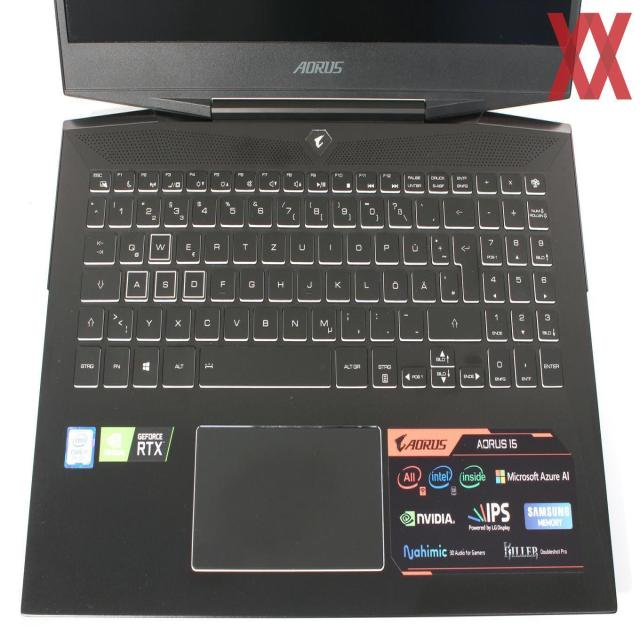0: (358, 194, 383, 226)
1: (107, 191, 132, 225)
2: (134, 191, 160, 225)
3: (162, 191, 188, 225)
4: (191, 192, 216, 224)
5: (219, 193, 244, 223)
6: (247, 192, 271, 224)
7: (275, 191, 300, 224)
8: (302, 192, 327, 226)
9: (330, 194, 355, 225)
a: (124, 267, 148, 297)
accent: (414, 195, 438, 227)
ae: (409, 265, 435, 300)
alt-left: (161, 342, 194, 386)
altgr-right: (334, 342, 367, 386)
b: (251, 301, 277, 338)
c: (193, 303, 219, 338)
caret: (85, 193, 105, 225)
comma: (339, 302, 365, 339)
d: (181, 267, 204, 297)
del: (442, 194, 474, 226)
e: (174, 227, 200, 261)
enter: (450, 227, 477, 301)
f: (208, 263, 234, 299)
g: (238, 264, 263, 299)
h: (266, 263, 292, 300)
hash: (437, 264, 457, 300)
i: (317, 228, 341, 260)
j: (295, 263, 320, 300)
k: (324, 264, 349, 300)
keyboard: (67, 162, 565, 394)
l: (353, 264, 378, 300)
less: (105, 303, 132, 338)
m: (309, 301, 336, 339)
minus: (396, 302, 422, 339)
n: (280, 302, 307, 338)
o: (345, 228, 369, 261)
oe: (381, 266, 407, 300)
p: (373, 229, 397, 261)
plus: (429, 228, 447, 262)
point: (368, 302, 394, 339)
q: (117, 227, 144, 261)
r: (202, 227, 228, 261)
s: (152, 267, 176, 297)
shift-left: (76, 302, 103, 338)
shift-lock: (80, 265, 120, 299)
shift-right: (425, 302, 480, 339)
space: (198, 339, 330, 386)
ss: (386, 194, 410, 225)
strg-left: (72, 342, 100, 386)
strg-right: (369, 342, 397, 387)
t: (232, 227, 256, 261)
tab: (82, 229, 115, 261)
u: (288, 227, 313, 261)
ue: (401, 229, 426, 262)
v: (222, 302, 248, 338)
w: (147, 229, 171, 260)
x: (164, 302, 190, 338)
y: (135, 302, 161, 338)
z: (260, 228, 285, 261)
